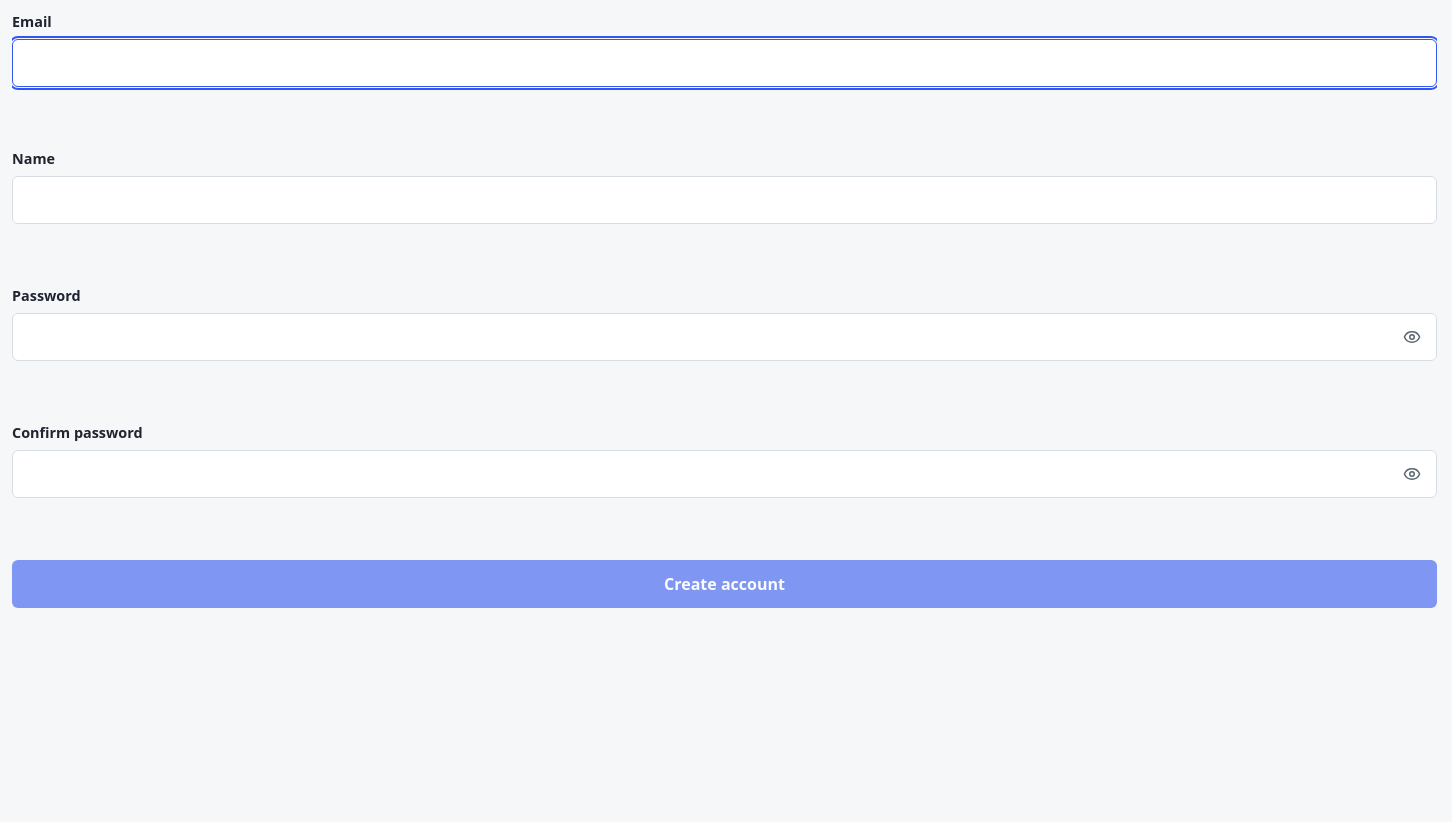
Test: SignUpForm › shows the password policy error and blocks submit for a weak password
Type "abc" into the password field labelled "Password" at (724, 337), box [12, 313, 1437, 361]
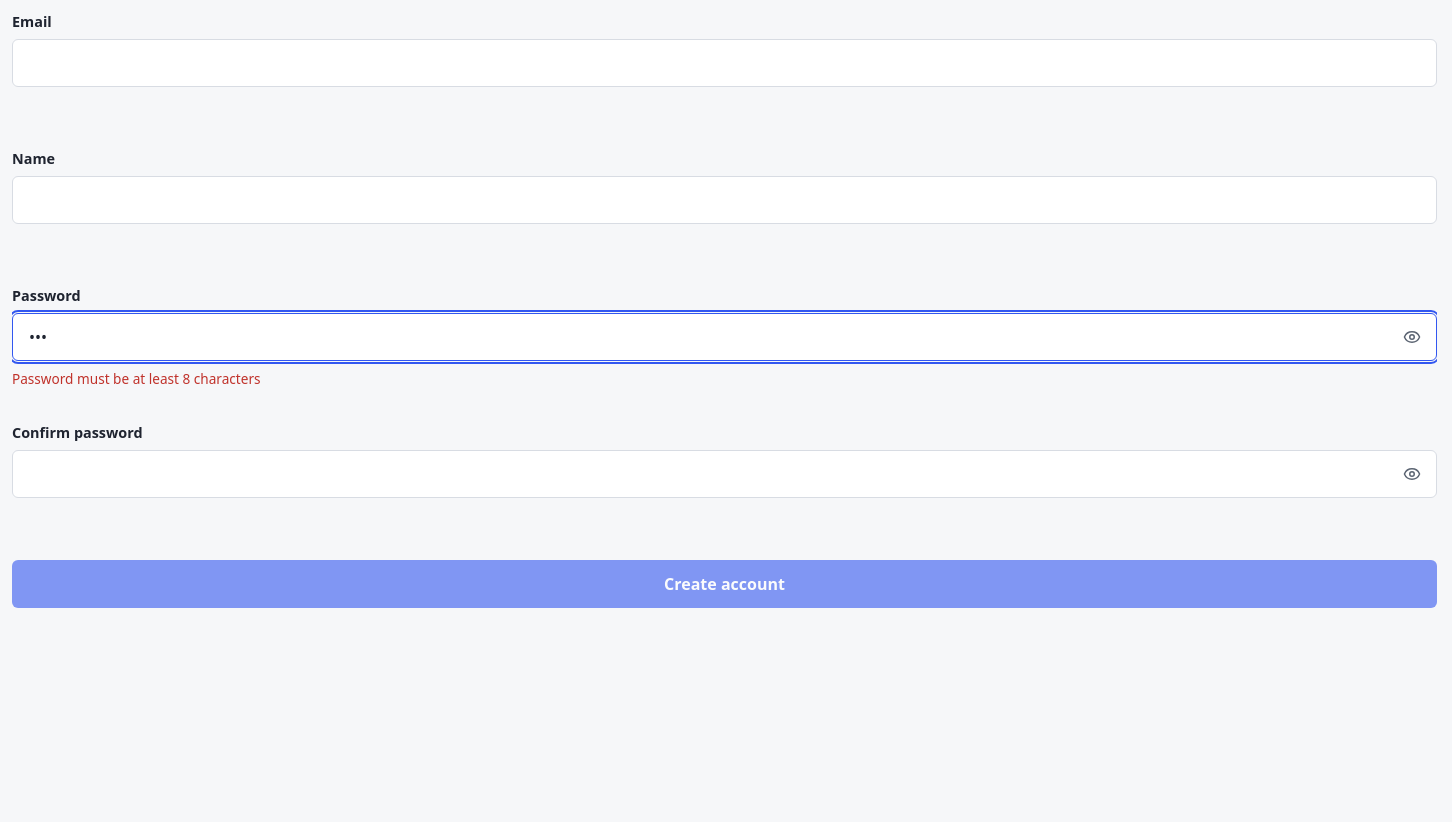
Expected: the button "Create account" is disabled, [12, 560, 1437, 608]
Expected: the text "Password must be at least 8 characters" is shown, [12, 369, 260, 388]
